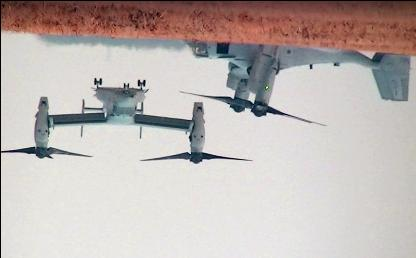Tornado: (2, 76, 252, 162), (178, 39, 412, 124)
